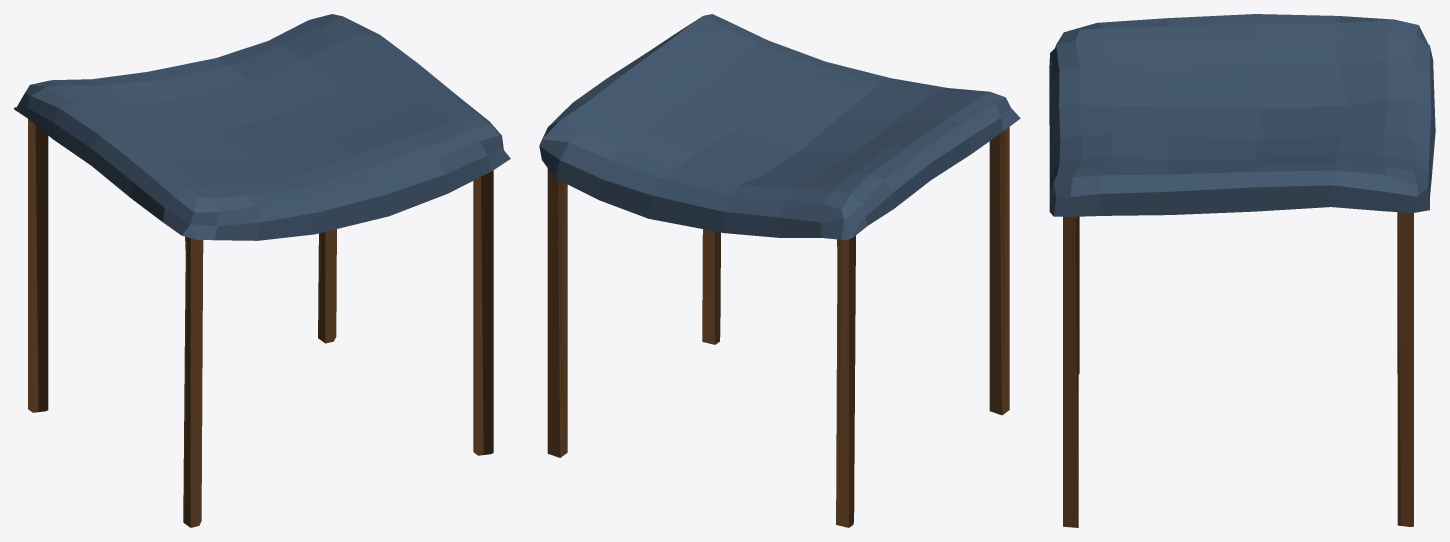
The model's file is SM_market_stand_02.fbx.
The picture shows the model from 3 angles, left to right: view 1: azimuth 30°, elevation 25°; view 2: azimuth 150°, elevation 25°; view 3: azimuth 270°, elevation 25°; orthographic projection. The views are drawn at different scales.
Visible parts, largest first — view 1: Object532; view 2: Object532; view 3: Object532.
Boxes of the visible parts, <box> form: Object532: <box>14,14,510,527</box>; Object532: <box>539,14,1020,527</box>; Object532: <box>1049,14,1435,527</box>.
Bounding box in the file's own units: 110 × 106 × 104.
